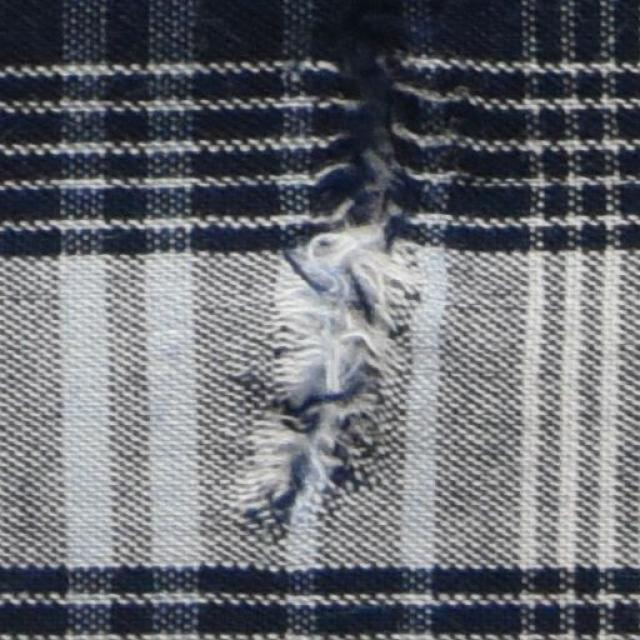Snag: (232, 1, 453, 525)
